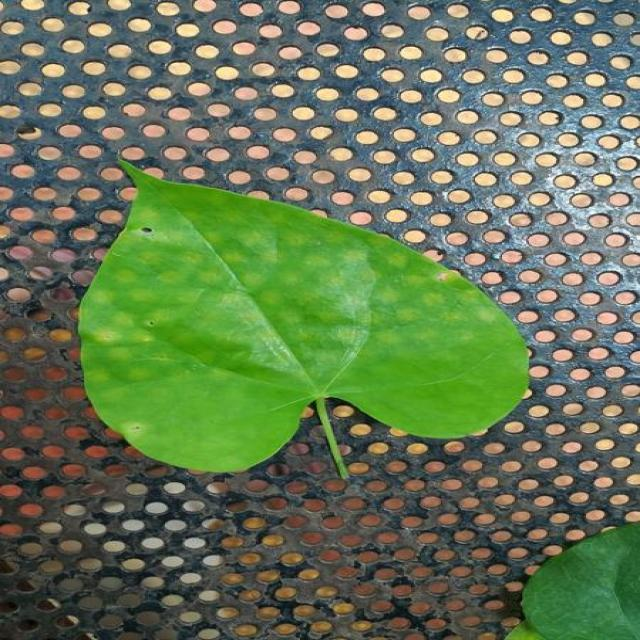Amruthaballi: (78, 161, 528, 477)
defectedAmruthaballi: (97, 162, 208, 279)
